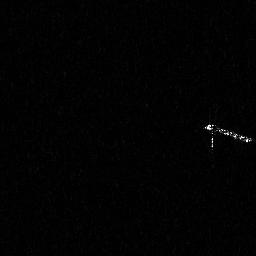ship: (202, 120, 254, 151)
